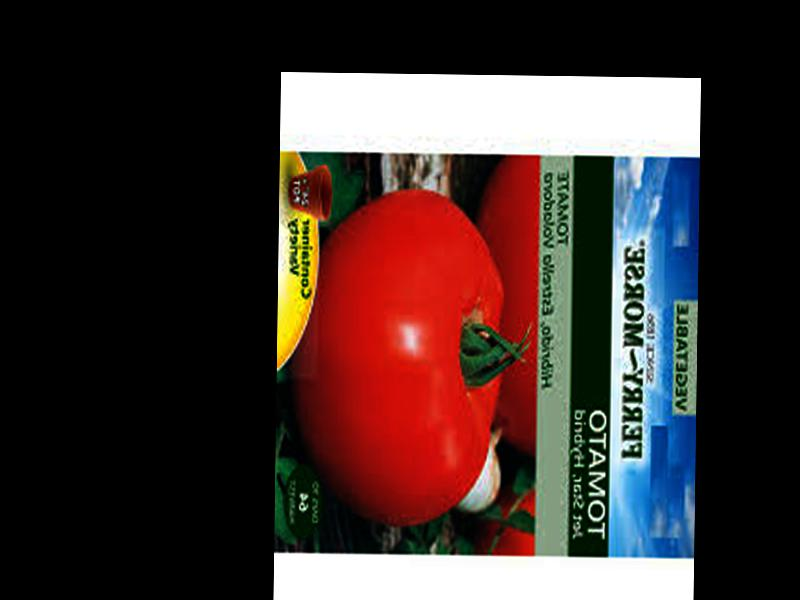Tomato: (289, 191, 504, 527)
